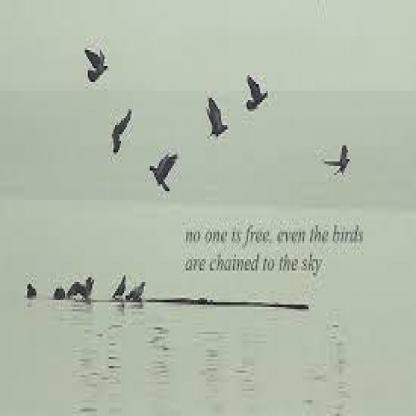bird: (66, 42, 129, 99), (225, 68, 286, 125), (310, 134, 368, 192), (137, 145, 201, 196), (93, 118, 153, 156), (192, 98, 232, 148)
